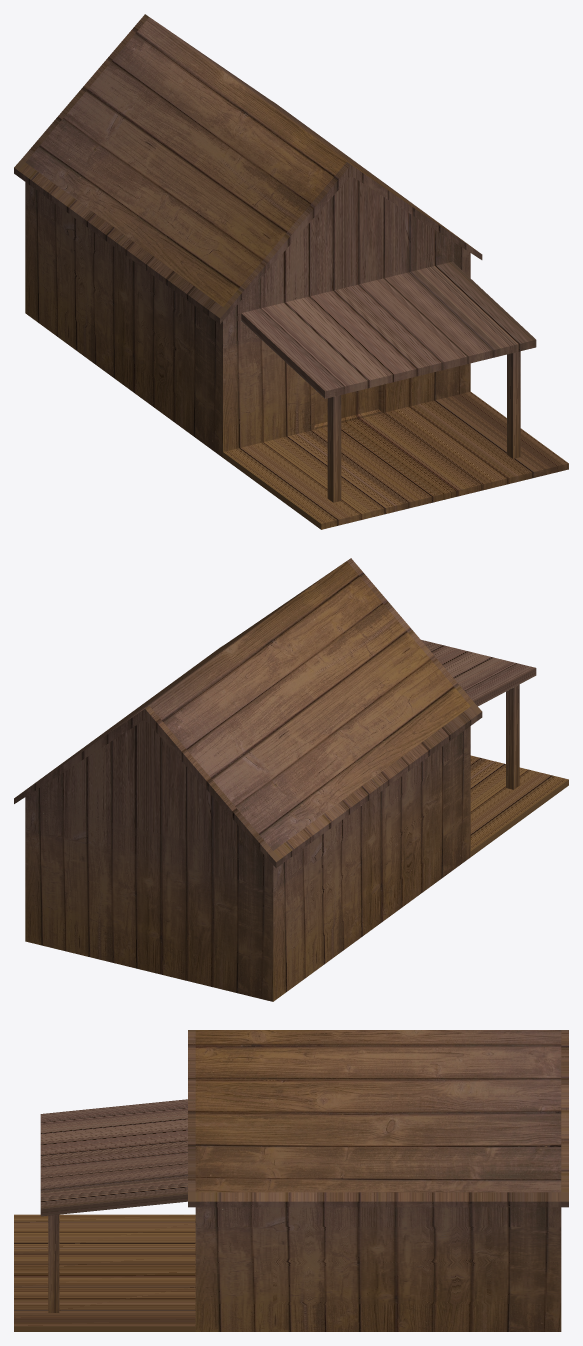
The model's file is HuettemitTexture.fbx.
The picture shows the model from 3 angles, top to bottom: view 1: azimuth 30°, elevation 25°; view 2: azimuth 150°, elevation 25°; view 3: azimuth 270°, elevation 25°; orthographic projection. The views are drawn at different scales.
Visible parts, largest first — view 1: Haus, Pole1, Pole2; view 2: Haus, Pole1; view 3: Haus, Pole2.
Boxes of the visible parts, <box> form: Haus: <box>14,14,568,529</box>; Pole1: <box>327,395,341,502</box>; Pole2: <box>507,351,520,458</box>; Haus: <box>14,558,568,1001</box>; Pole1: <box>506,684,519,789</box>; Haus: <box>14,1030,568,1331</box>; Pole2: <box>48,1214,59,1312</box>.
Size of the model in its own units: 181 by 175 by 358.
Materials: 1 (1 with a texture image).
